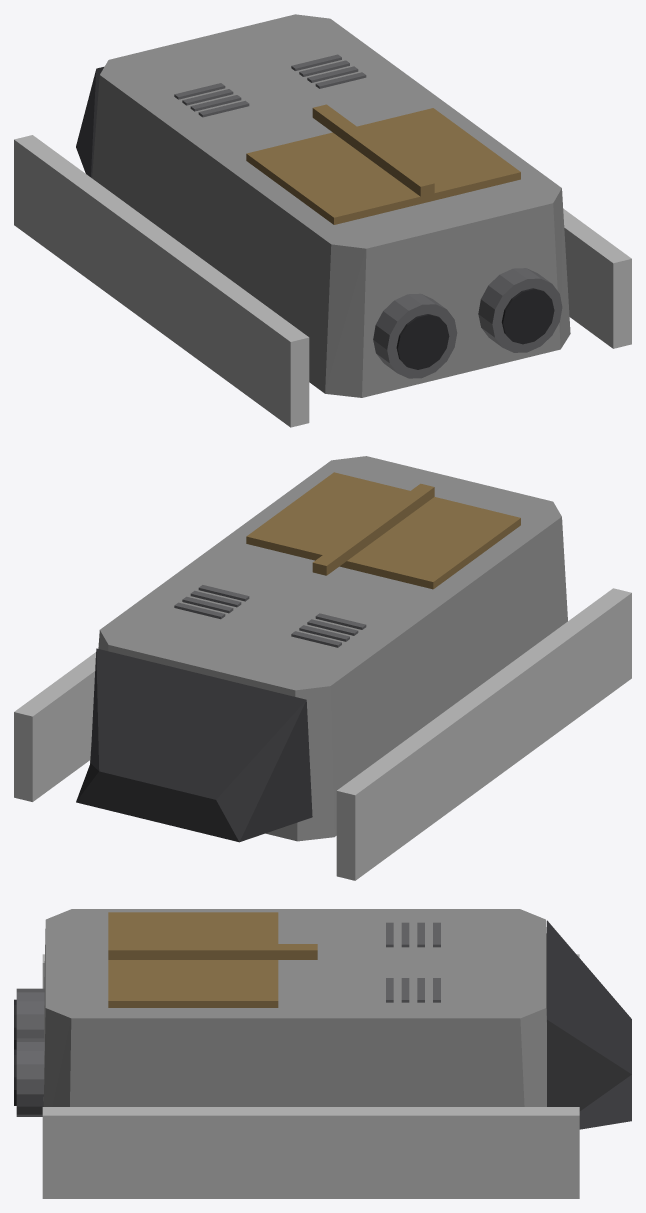
File: vge_locked_shuttle.obj
3 renders of one model, top to bottom at view 1: azimuth 30°, elevation 25°; view 2: azimuth 150°, elevation 25°; view 3: azimuth 270°, elevation 25°, orthographic. The views are drawn at different scales.
Visible parts, largest first — view 1: vge_locked_shuttle_2, vge_locked_shuttle_0, vge_locked_shuttle_12, vge_locked_shuttle_1, vge_locked_shuttle_14, vge_locked_shuttle_16, vge_locked_shuttle_13, vge_locked_shuttle_15, vge_locked_shuttle_17, vge_locked_shuttle_3; view 2: vge_locked_shuttle_2, vge_locked_shuttle_3, vge_locked_shuttle_0, vge_locked_shuttle_12, vge_locked_shuttle_1, vge_locked_shuttle_13; view 3: vge_locked_shuttle_2, vge_locked_shuttle_1, vge_locked_shuttle_12, vge_locked_shuttle_3, vge_locked_shuttle_13, vge_locked_shuttle_16, vge_locked_shuttle_14.
Boxes of the visible parts, x1,y1,x2,y2 form: vge_locked_shuttle_2: (92,14,570,397); vge_locked_shuttle_0: (14,135,309,427); vge_locked_shuttle_12: (246,108,520,224); vge_locked_shuttle_1: (563,209,631,348); vge_locked_shuttle_14: (373,293,457,378); vge_locked_shuttle_16: (478,268,562,352); vge_locked_shuttle_13: (312,104,434,196); vge_locked_shuttle_15: (396,314,449,369); vge_locked_shuttle_17: (501,288,554,344); vge_locked_shuttle_3: (76,66,104,177); vge_locked_shuttle_2: (90,456,567,841); vge_locked_shuttle_3: (76,648,312,842); vge_locked_shuttle_0: (336,588,631,880); vge_locked_shuttle_12: (246,472,520,589); vge_locked_shuttle_1: (14,652,95,801); vge_locked_shuttle_13: (312,483,434,575); vge_locked_shuttle_2: (43,909,546,1106); vge_locked_shuttle_1: (42,1107,579,1198); vge_locked_shuttle_12: (108,912,278,1007); vge_locked_shuttle_3: (547,920,631,1129); vge_locked_shuttle_13: (108,944,317,959); vge_locked_shuttle_16: (16,1038,44,1116); vge_locked_shuttle_14: (16,988,44,1038).
Size of the model in its own units: 2.92 by 1.44 by 4.72.
